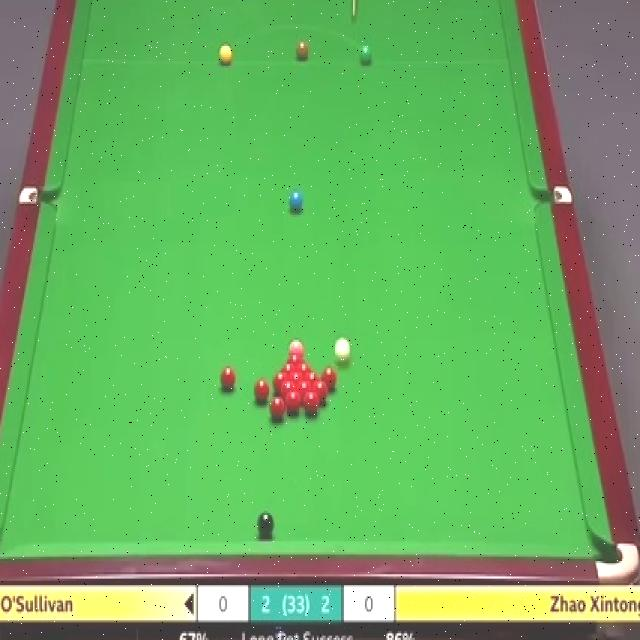black-ball: (257, 509, 274, 539)
blue-ball: (287, 189, 304, 215)
brown-ball: (295, 42, 308, 62)
green-ball: (359, 44, 372, 66)
pink-ball: (289, 340, 306, 354)
red-ball: (252, 378, 270, 407), (219, 368, 238, 394), (269, 396, 286, 424), (323, 363, 339, 391), (304, 390, 322, 414), (313, 380, 330, 404), (280, 379, 297, 402), (285, 391, 300, 417), (296, 380, 313, 402), (295, 363, 314, 378), (287, 352, 306, 363), (272, 372, 288, 384), (286, 372, 303, 382), (280, 364, 297, 374), (304, 373, 320, 382)
white-ball: (334, 337, 351, 365)
yellow-ball: (218, 43, 234, 66)
